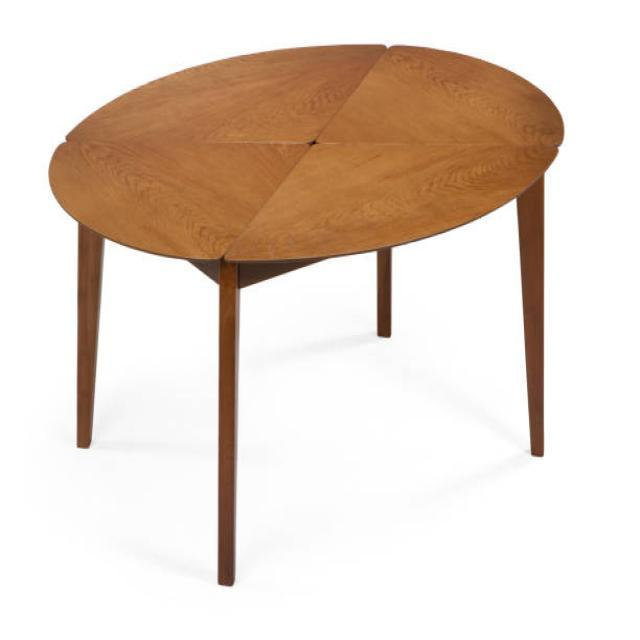table: (47, 41, 565, 586)
